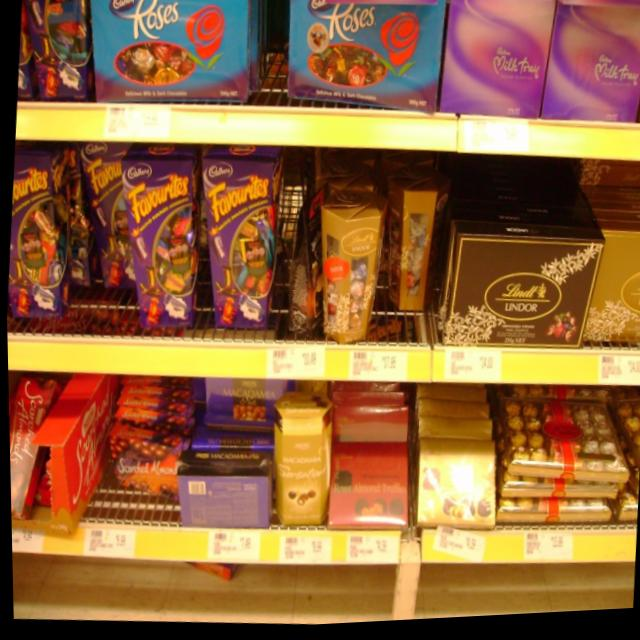q256: (76, 0, 263, 114), (290, 0, 443, 127)
